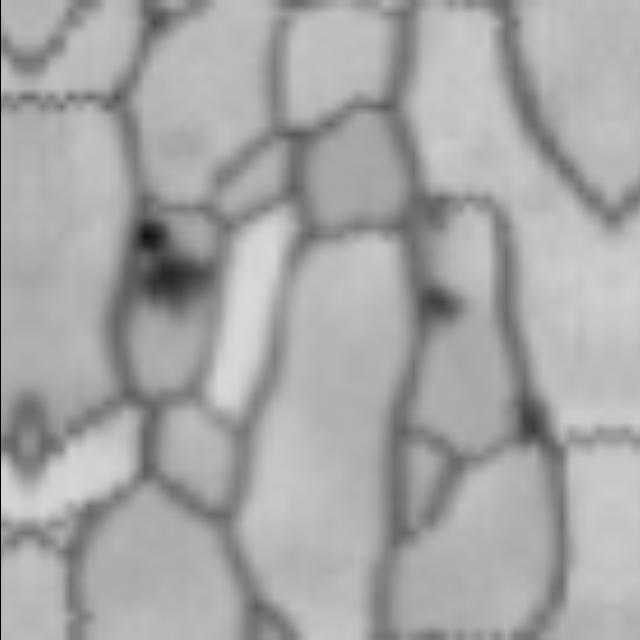good_void: (89, 201, 228, 341), (384, 254, 481, 352), (496, 379, 562, 456)
